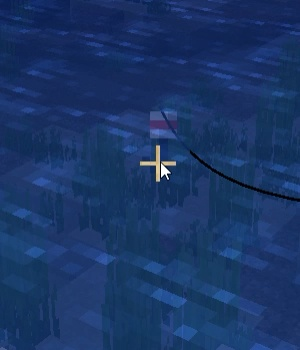down: (142, 103, 182, 171)
